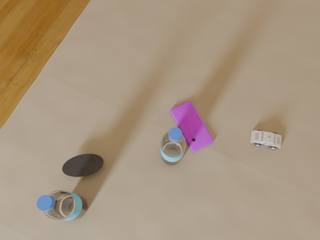bottle: (37, 190, 87, 220), (161, 128, 187, 165)
mouse: (62, 154, 103, 177)
phone: (170, 101, 214, 152)
toy_car: (251, 130, 281, 149)
